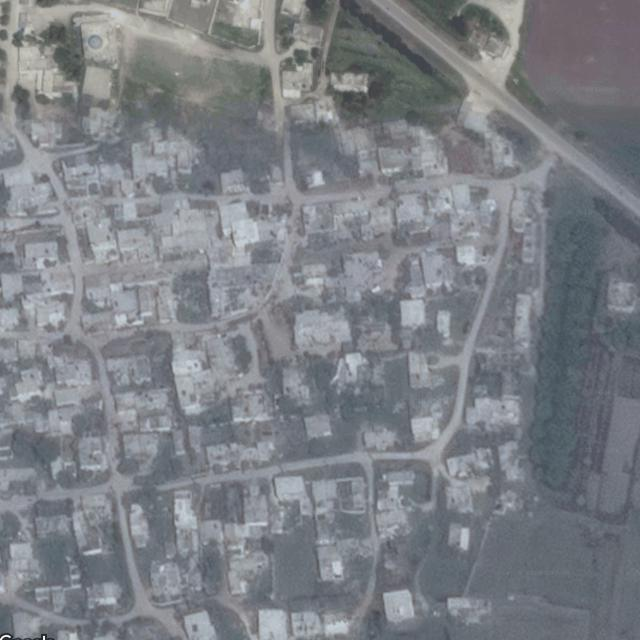damaged_building: (293, 307, 350, 351), (202, 435, 274, 467), (442, 478, 481, 513), (498, 440, 528, 479)
